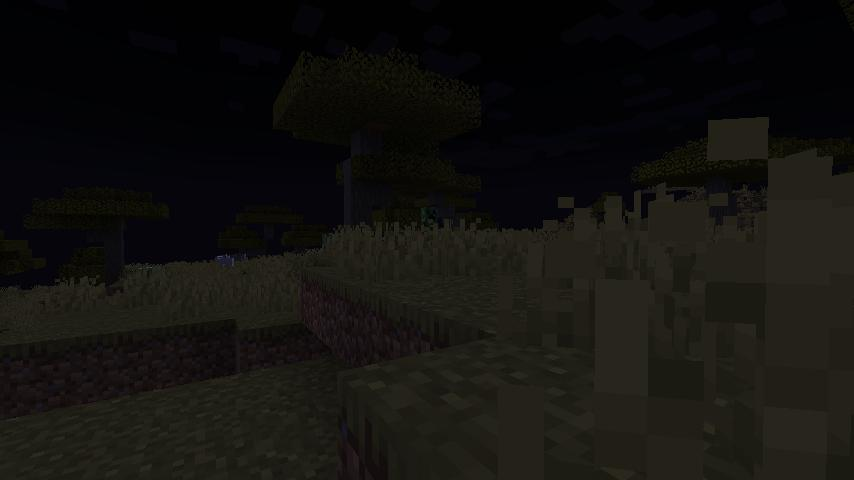creeper: (136, 265, 169, 300), (420, 204, 441, 250)
sheep: (215, 254, 236, 272)
